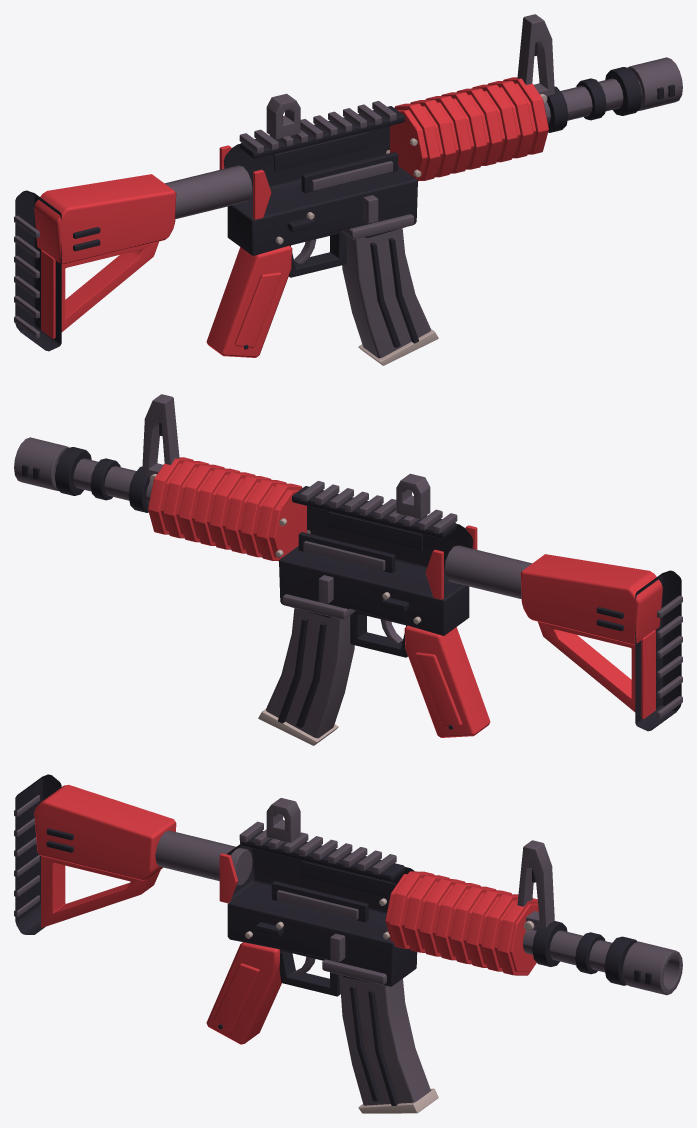
3 renders of one model, top to bottom at view 1: azimuth 30°, elevation 25°; view 2: azimuth 150°, elevation 25°; view 3: azimuth 330°, elevation 25°, orthographic.
Visible parts, largest first — view 1: body_pal_survivorRed, body_pal_uiDark, body_pal_asphalt, magazine_pal_asphalt, magazine_pal_uiDark, magazine_pal_sidewalk; view 2: body_pal_survivorRed, body_pal_uiDark, body_pal_asphalt, magazine_pal_asphalt, magazine_pal_uiDark, magazine_pal_sidewalk; view 3: body_pal_survivorRed, body_pal_uiDark, body_pal_asphalt, magazine_pal_asphalt, magazine_pal_uiDark, magazine_pal_sidewalk.
Part boxes in pixels (x1=…): body_pal_survivorRed: x1=34, y1=77, x2=548, y2=357; body_pal_uiDark: x1=15, y1=42, x2=674, y2=351; body_pal_asphalt: x1=14, y1=14, x2=682, y2=338; magazine_pal_asphalt: x1=342, y1=228, x2=430, y2=358; magazine_pal_uiDark: x1=370, y1=238, x2=418, y2=347; magazine_pal_sidewalk: x1=358, y1=329, x2=438, y2=365; body_pal_survivorRed: x1=148, y1=457, x2=662, y2=737; body_pal_uiDark: x1=22, y1=422, x2=681, y2=731; body_pal_asphalt: x1=14, y1=394, x2=682, y2=718; magazine_pal_asphalt: x1=266, y1=608, x2=354, y2=738; magazine_pal_uiDark: x1=278, y1=618, x2=326, y2=727; magazine_pal_sidewalk: x1=258, y1=709, x2=338, y2=745; body_pal_survivorRed: x1=34, y1=784, x2=538, y2=1044; body_pal_uiDark: x1=15, y1=774, x2=651, y2=1028; body_pal_asphalt: x1=14, y1=795, x2=682, y2=995; magazine_pal_asphalt: x1=339, y1=974, x2=430, y2=1105; magazine_pal_uiDark: x1=349, y1=985, x2=398, y2=1105; magazine_pal_sidewalk: x1=358, y1=1088, x2=438, y2=1113.
Bounding box in the file's own units: 0.878 × 0.3898 × 0.0972.
